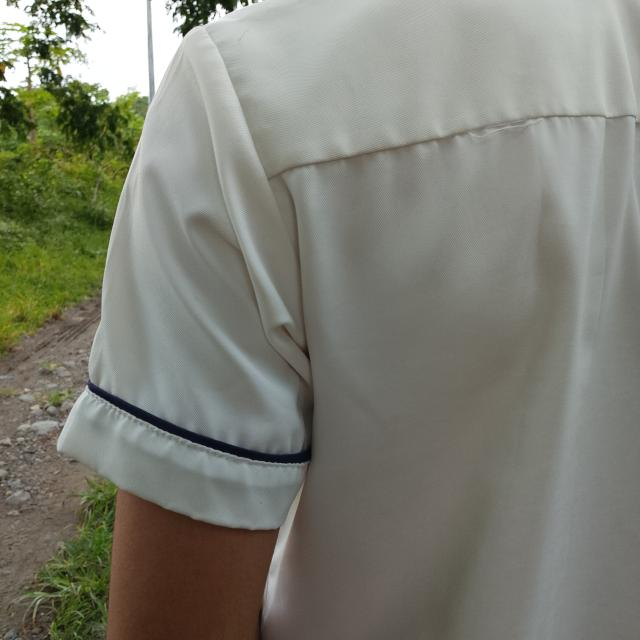education_male_uniform: (13, 11, 640, 574)
